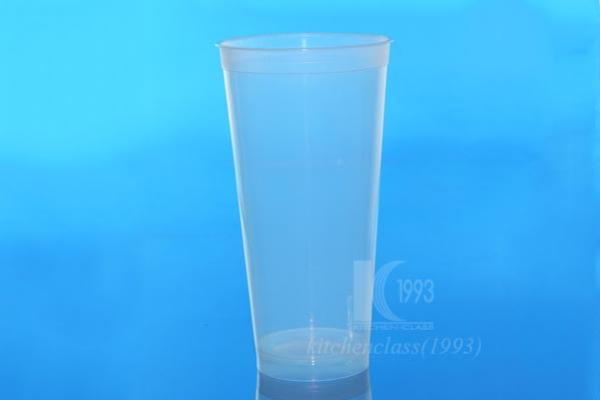plastic_glass: (211, 28, 398, 392)
